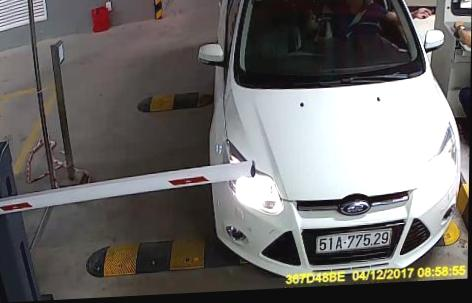License_Plate: (311, 225, 394, 257)
